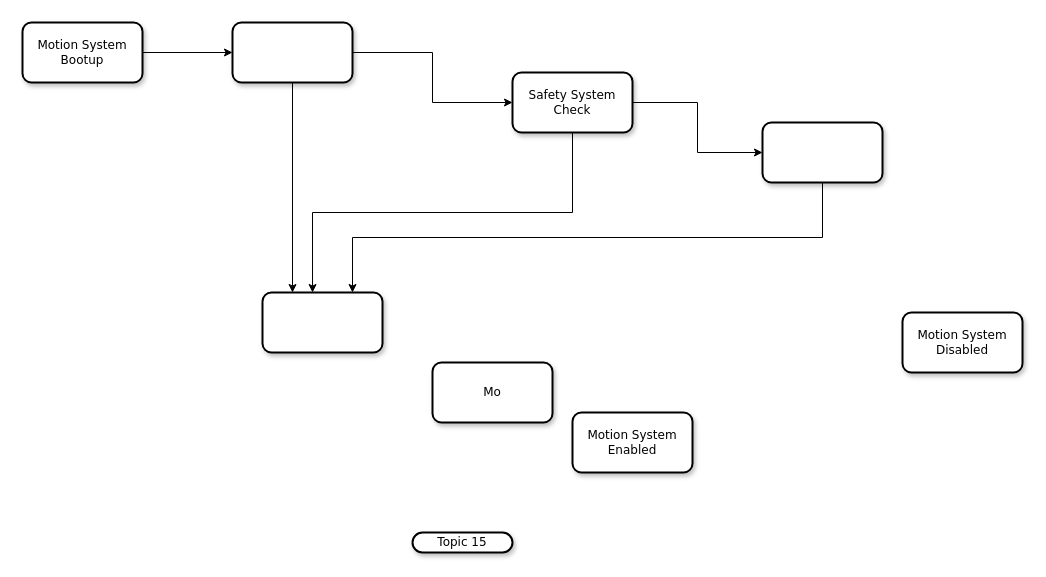
The diagram is 1046 pixels wide and 577 high, and some of its shapes have lost their labels. Here are the shapes that lost their labels. From the top down, the centre of each, then its label:
the point at 293,53: Initializing
the point at 823,153: System Ready
the point at 323,323: System Error
